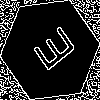E: (25, 25, 77, 79)
